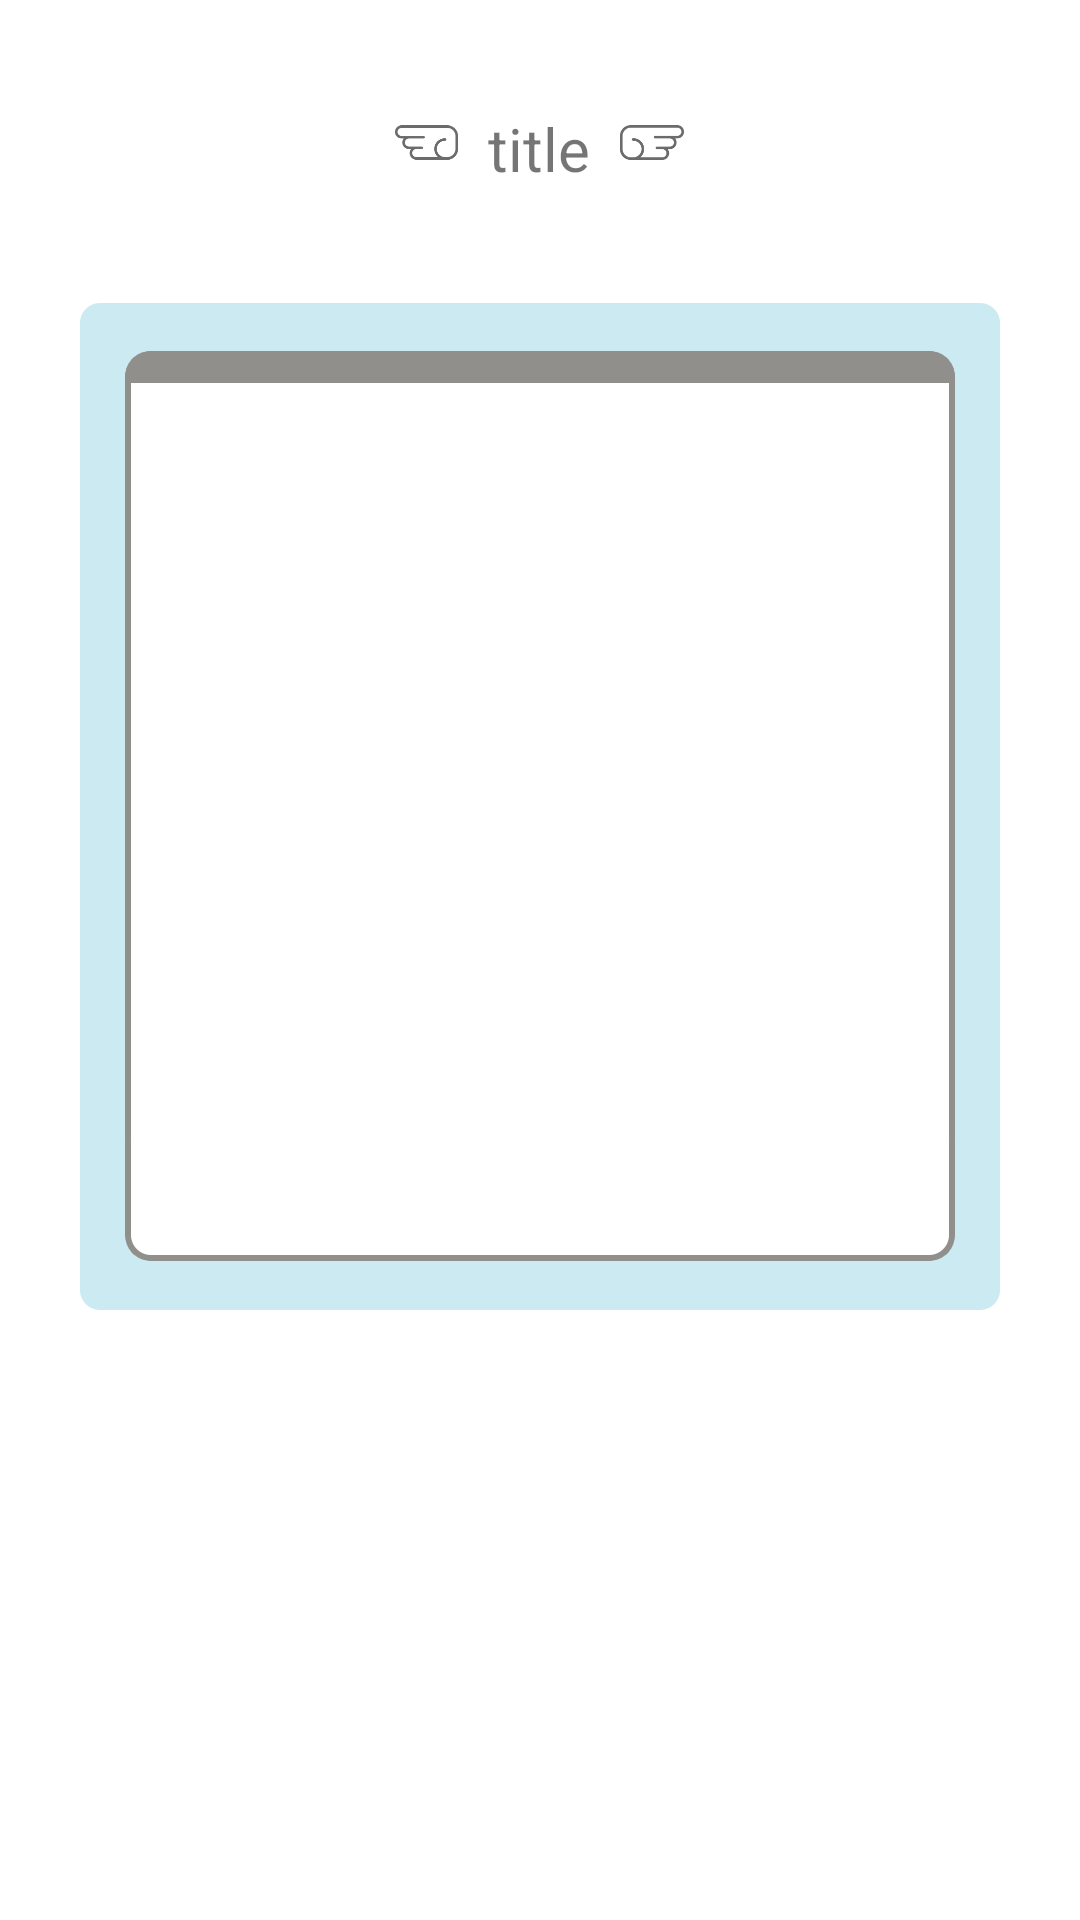

Icons on this 1080 x 1920 Android screen, each with its box as (x1, y1, x2, y2):
wing left: (395, 125, 458, 160)
wing right: (620, 125, 684, 160)
